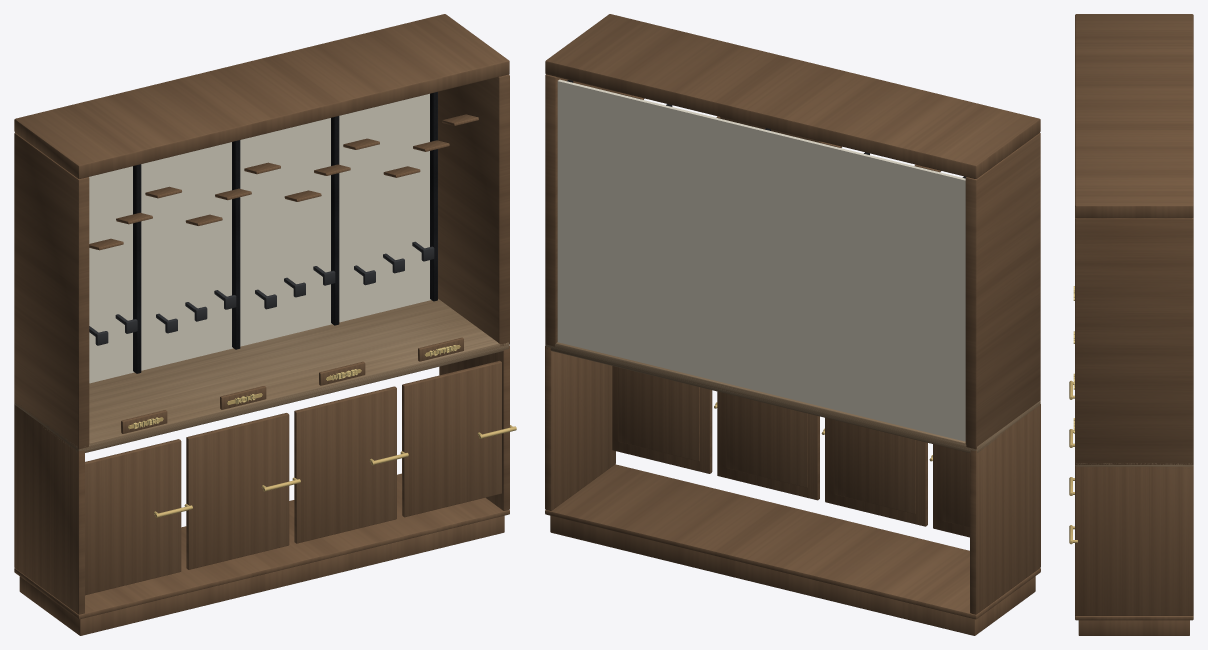
File: club_wall.glb
3 views of the same model, side by side, from view 1: azimuth 30°, elevation 25°; view 2: azimuth 150°, elevation 25°; view 3: azimuth 270°, elevation 25° (orthographic). The views are drawn at different scales.
Parts seen in each view (by area): view 1: club_wall_body; view 2: club_wall_body; view 3: club_wall_body.
Boxes of the visible parts, x1,y1,x2,y2 form: club_wall_body: (14,14,516,635); club_wall_body: (545,14,1040,635); club_wall_body: (1069,14,1193,635).
Size of what is drawn, in the model's own units: 1.93 by 2.01 by 0.524.
Materials: 8 (4 with a texture image).
